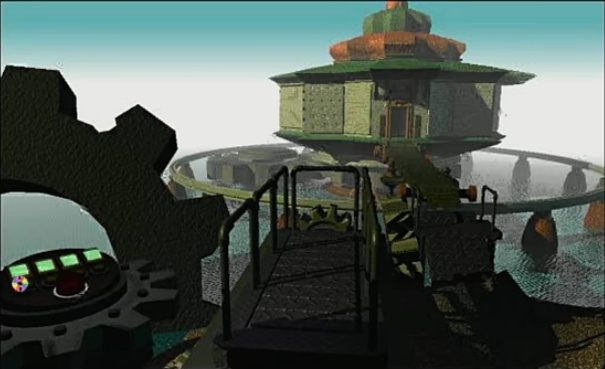Waiting: (9, 273, 31, 294)
